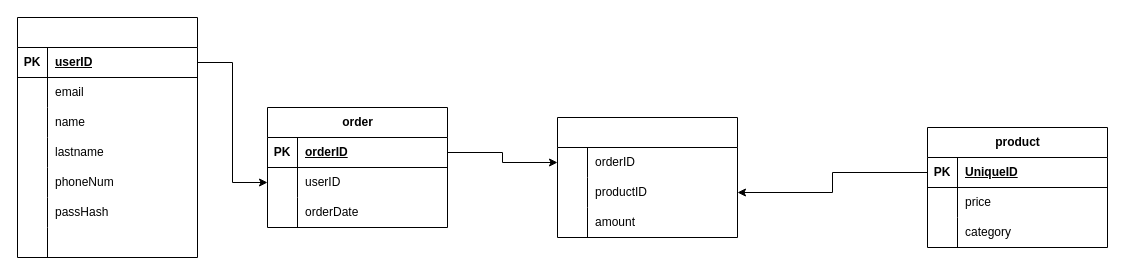
The diagram is 1125 pixels wide and 275 high, and some of its shapes have lost their labels. The box of each missing label's shape, as (x1, y1, x2, y2) in pixels:
orderRows: (556, 116, 738, 238)
users: (16, 16, 198, 258)
